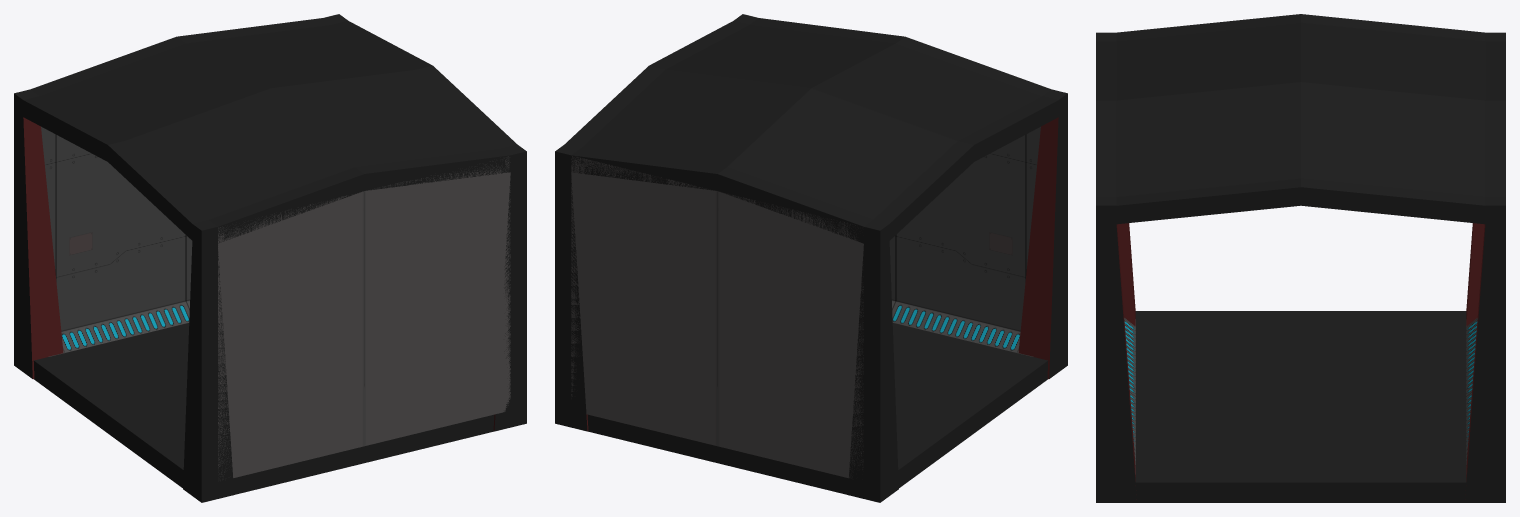
The model's file is Straight.fbx.
3 views of the same model, side by side, from view 1: azimuth 30°, elevation 25°; view 2: azimuth 150°, elevation 25°; view 3: azimuth 270°, elevation 25° (orthographic). The views are drawn at different scales.
Visible parts, largest first — view 1: Walls.002, Ceiling, FloorStraight; view 2: Walls.002, Ceiling, FloorStraight; view 3: Ceiling, FloorStraight, Walls.002.
Part boxes in pixels (bbox=[...]): Walls.002: bbox=[41, 126, 510, 480]; Ceiling: bbox=[14, 14, 526, 502]; FloorStraight: bbox=[33, 323, 494, 494]; Walls.002: bbox=[571, 126, 1040, 478]; Ceiling: bbox=[555, 14, 1067, 502]; FloorStraight: bbox=[587, 323, 1048, 494]; Ceiling: bbox=[1096, 14, 1505, 502]; FloorStraight: bbox=[1135, 311, 1466, 502]; Walls.002: bbox=[1124, 318, 1477, 474].
Size of the model in its own units: 20 by 18.05 by 20.
Materials: 3 (2 with a texture image).
